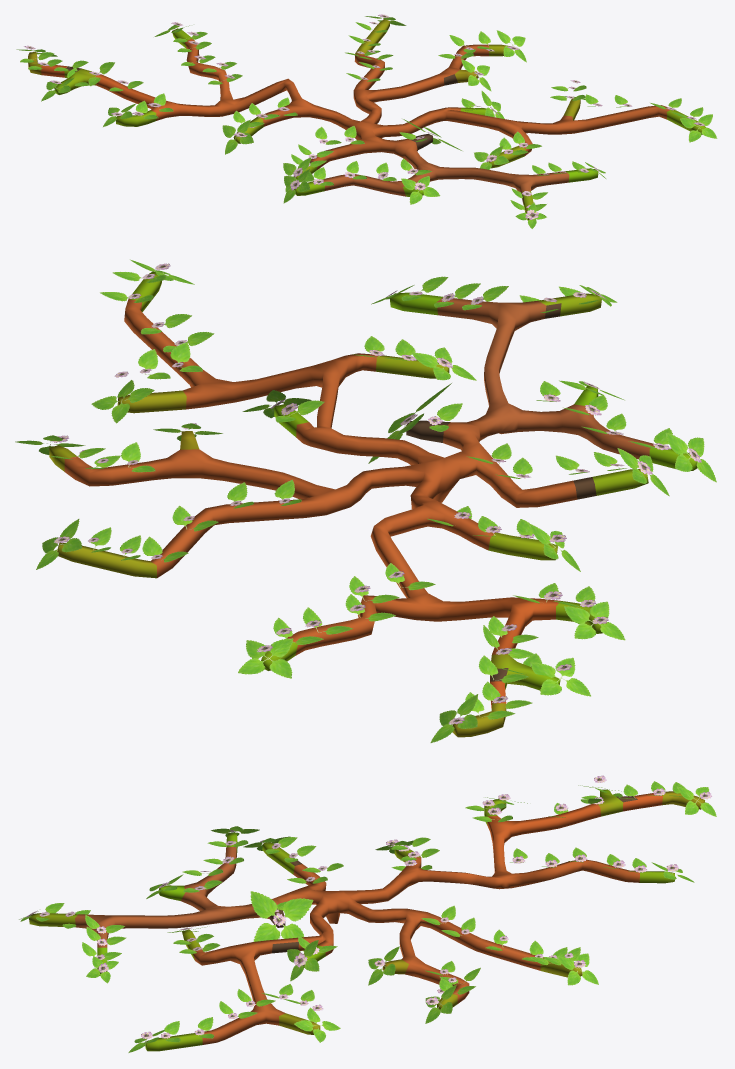
Rendered from ervaCidreira.fbx.
The picture shows the model from 3 angles, top to bottom: view 1: azimuth 30°, elevation 25°; view 2: azimuth 150°, elevation 25°; view 3: azimuth 270°, elevation 25°; orthographic projection. The views are drawn at different scales.
Parts seen in each view (by area): view 1: ervaCidreira, folha-do-erva-cidreira, ervaCidreiraFLor; view 2: ervaCidreira, folha-do-erva-cidreira, ervaCidreiraFLor; view 3: ervaCidreira, folha-do-erva-cidreira, ervaCidreiraFLor.
Boxes of the visible parts, box(x1,y1,x2,y2) form: ervaCidreira: box(28, 19, 706, 220); folha-do-erva-cidreira: box(16, 16, 717, 228); ervaCidreiraFLor: box(24, 14, 704, 219); ervaCidreira: box(49, 271, 697, 737); folha-do-erva-cidreira: box(15, 259, 716, 742); ervaCidreiraFLor: box(52, 263, 701, 724); ervaCidreira: box(29, 789, 704, 1051); folha-do-erva-cidreira: box(19, 781, 716, 1052); ervaCidreiraFLor: box(26, 775, 711, 1038).
Size of the model in its own units: 116 by 10.73 by 129.
